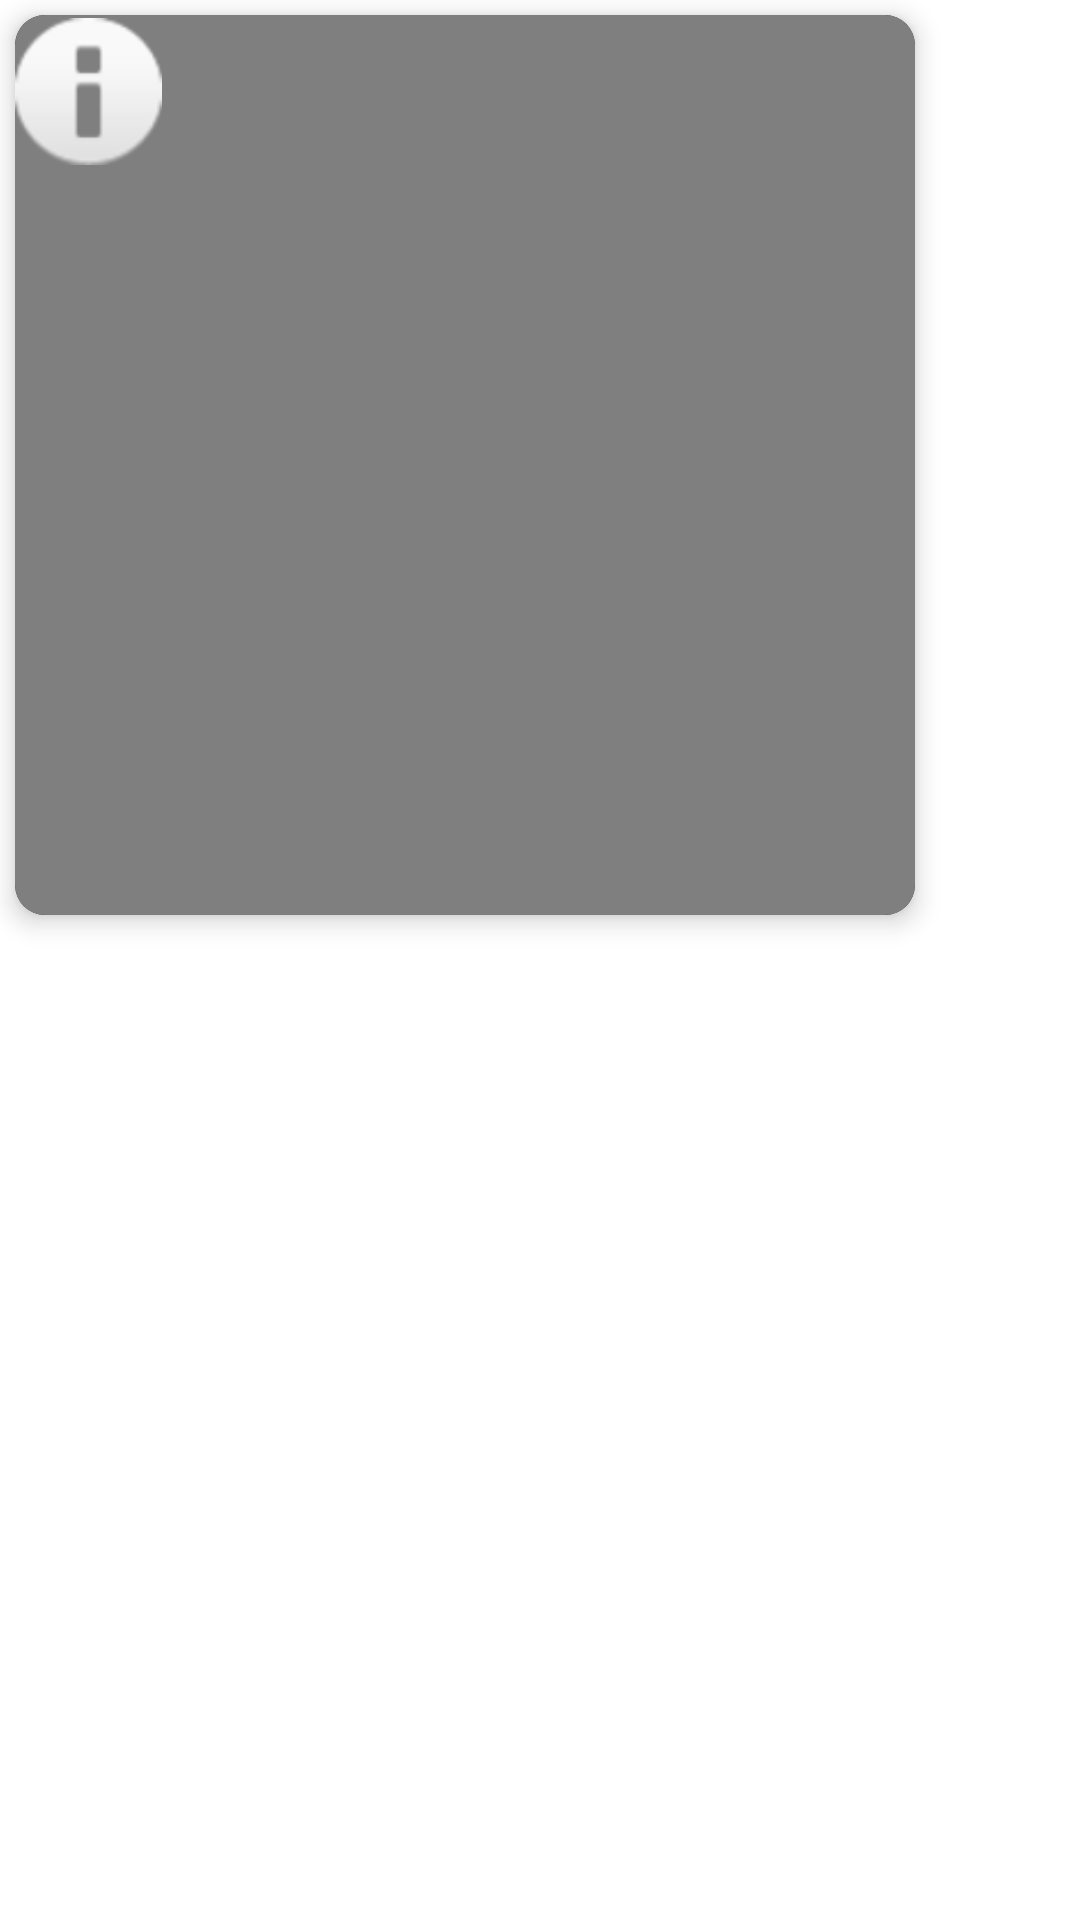

Icon click points for this 1080px×1920px phone screenshot, format [x,y]:
info: [88,91]
